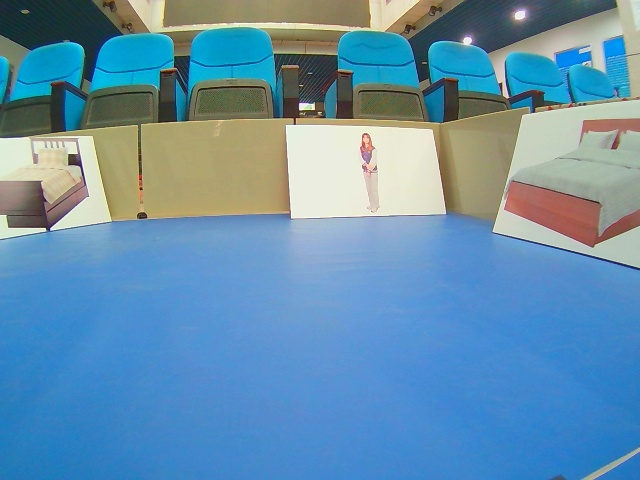bed: (492, 100, 640, 272), (1, 138, 113, 240)
person: (284, 125, 448, 223)
